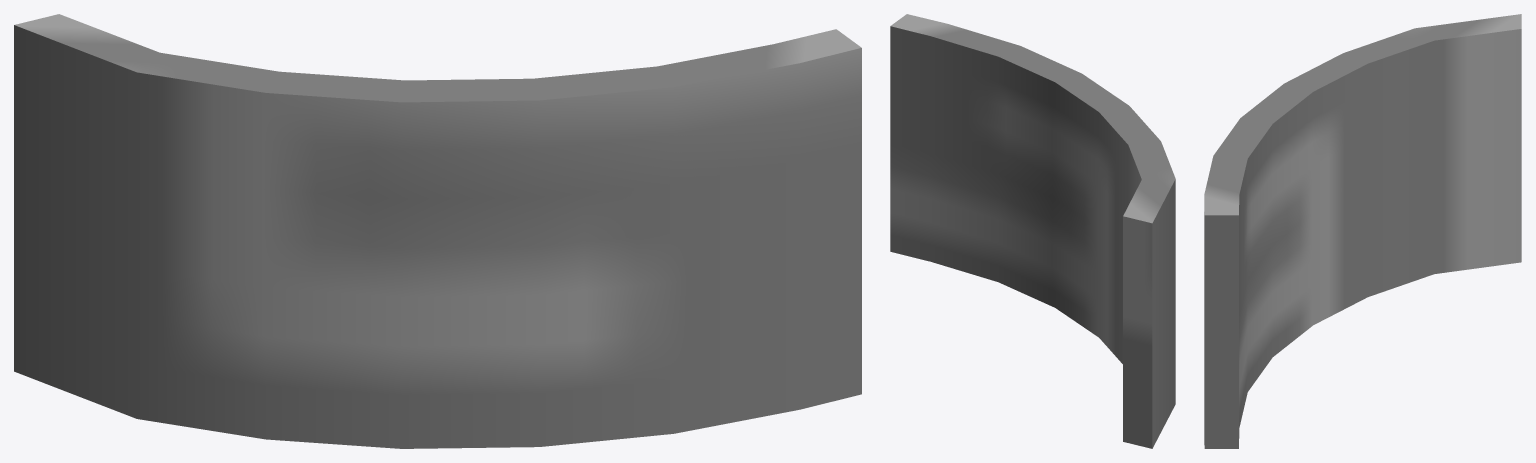
File: wall_curve_01.fbx
The picture shows the model from 3 angles, left to right: view 1: azimuth 30°, elevation 25°; view 2: azimuth 150°, elevation 25°; view 3: azimuth 270°, elevation 25°; orthographic projection. The views are drawn at different scales.
Visible parts, largest first — view 1: wall_curve_01; view 2: wall_curve_01; view 3: wall_curve_01.
Boxes of the visible parts, x1=… form: wall_curve_01: x1=14, y1=14, x2=861, y2=448; wall_curve_01: x1=890, y1=14, x2=1175, y2=448; wall_curve_01: x1=1204, y1=14, x2=1521, y2=448.
Bounding box in the file's own units: 2847 × 1539 × 1896.
